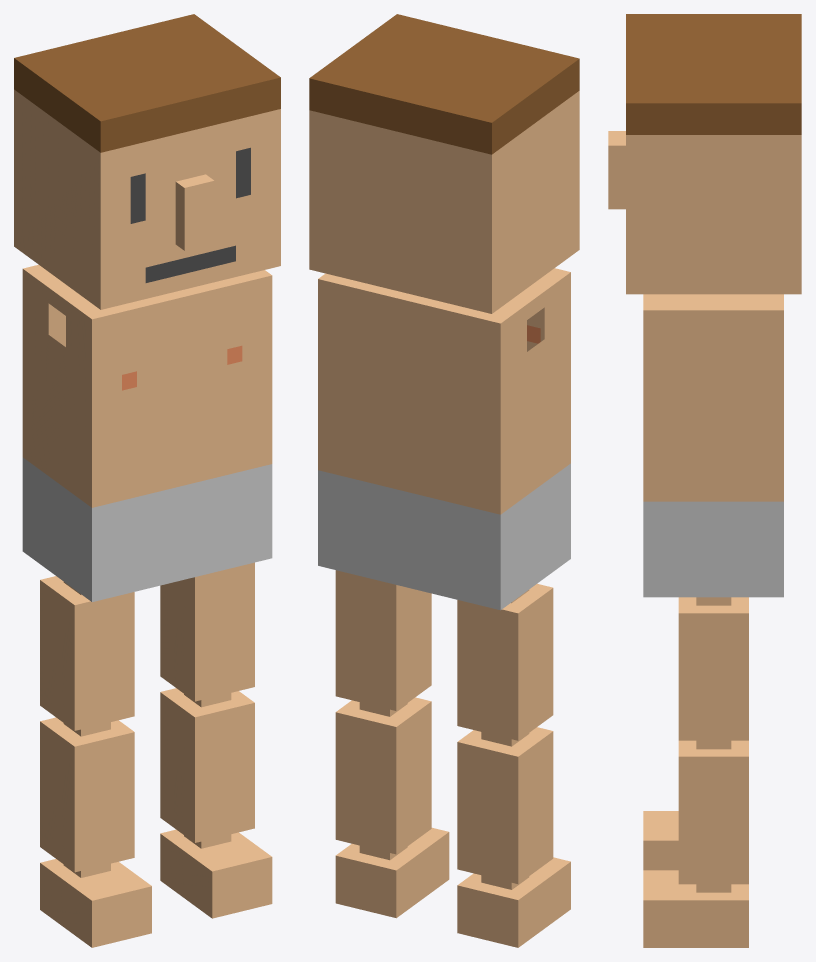
File: cousinBody.fbx
3 views of the same model, side by side, from view 1: azimuth 30°, elevation 25°; view 2: azimuth 150°, elevation 25°; view 3: azimuth 270°, elevation 25° (orthographic).
Visible parts, largest first — view 1: cousinBody; view 2: cousinBody; view 3: cousinBody.
Part boxes in pixels (left/top/right/bottom): cousinBody: left=14, top=14, right=280, bottom=947; cousinBody: left=309, top=14, right=579, bottom=947; cousinBody: left=608, top=14, right=801, bottom=947.
Bounding box in the file's own units: 1.2 × 5.3 × 1.1.
Materials: 1 (1 with a texture image).
